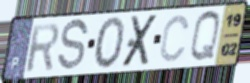C: (158, 13, 191, 64)
O: (93, 15, 127, 71)
Q: (188, 9, 222, 65)
R: (25, 21, 61, 74)
S: (55, 17, 90, 74)
X: (120, 13, 160, 70)
